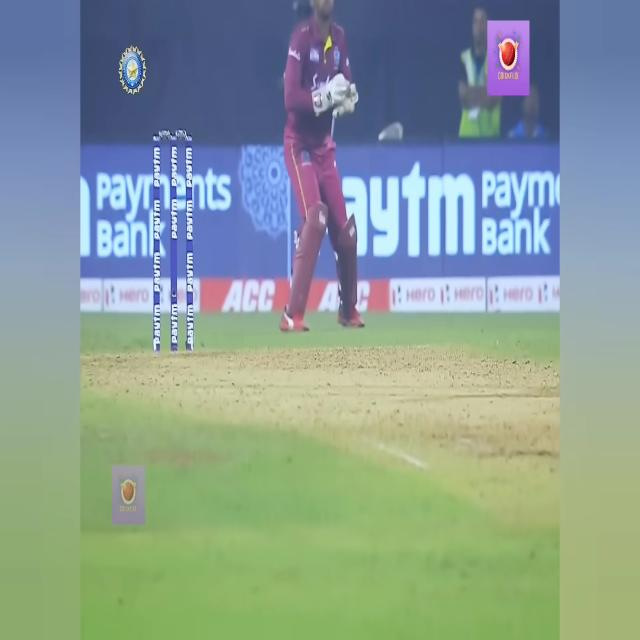partially_visible: (313, 160, 478, 264)
